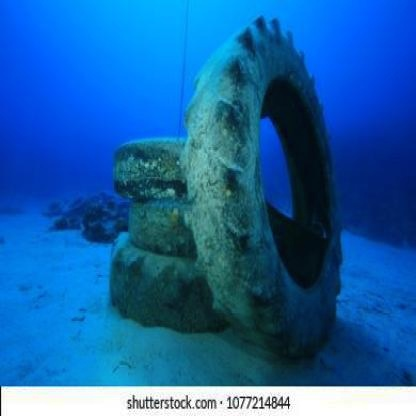tire: (207, 39, 341, 349), (102, 122, 177, 217), (125, 180, 193, 284)
